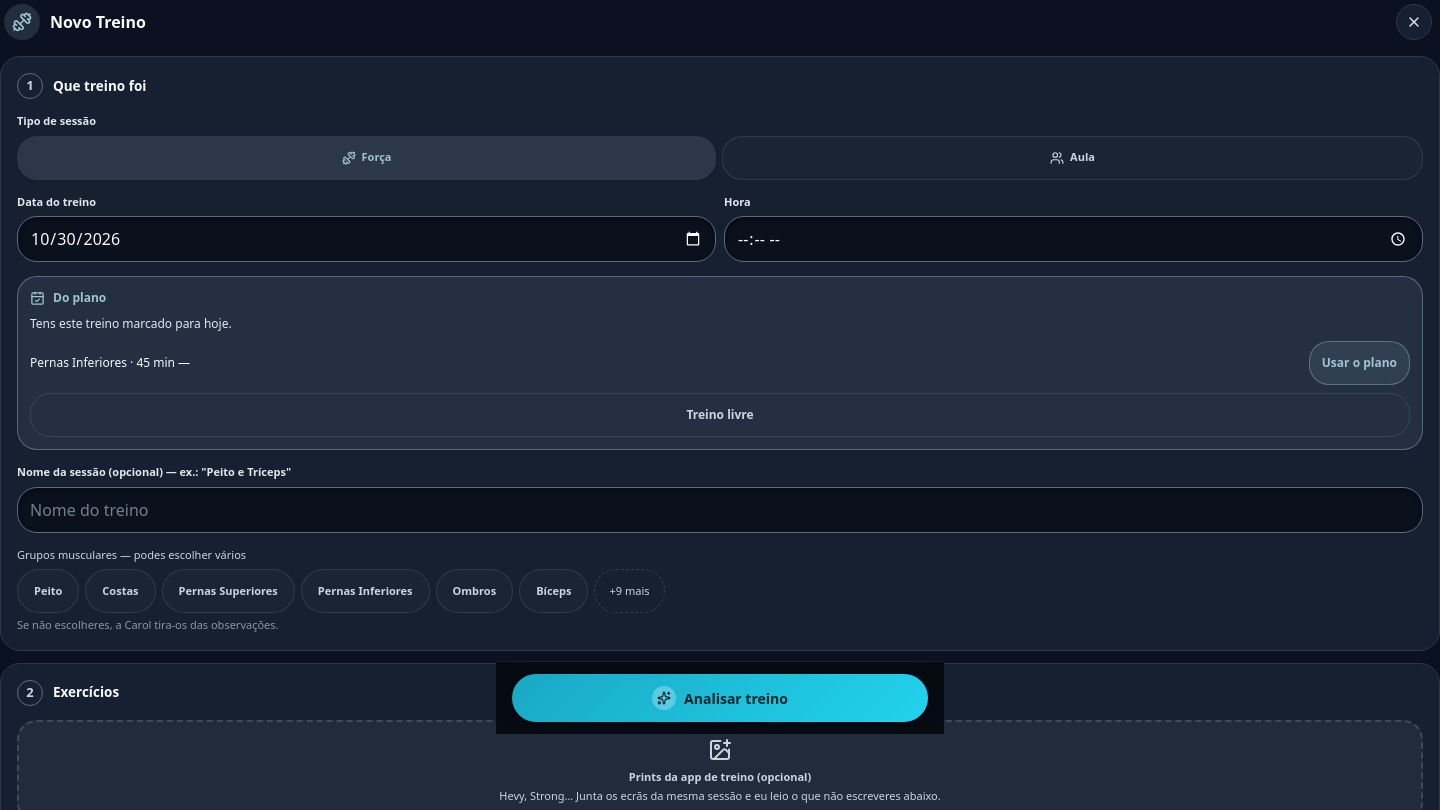
Scenario: GymRegistration — pré-preenchimento pelo plano (F3) › um item de um plano antigo (sem prescrição) segue como antes: grupos e duração, sem exercícios
Click the button "Usar o plano": (1359, 363) [1309,341,1410,385]
(page scrolled)
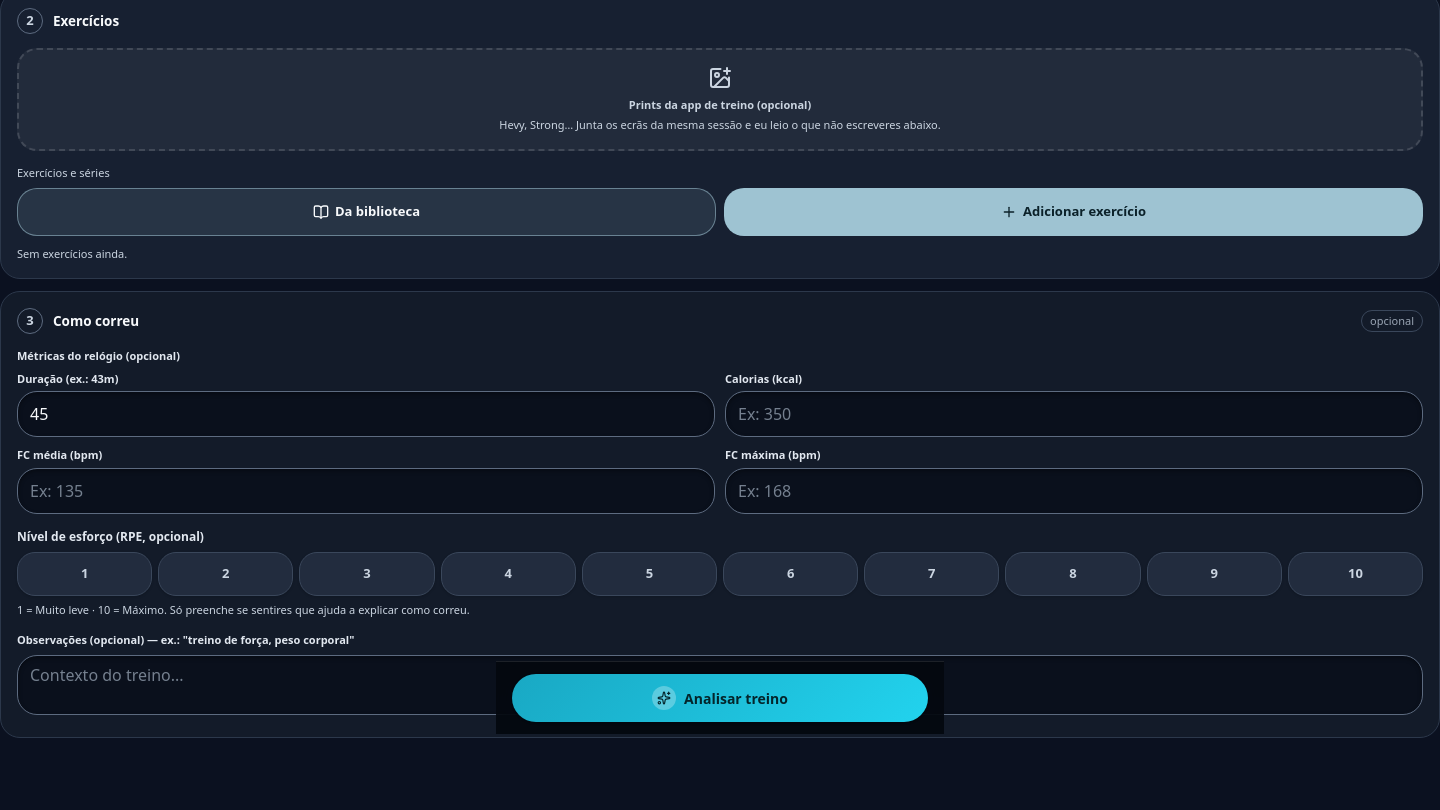
Expected: the field with placeholder "Ex: 45m" holds "45", [17,391,715,437]
